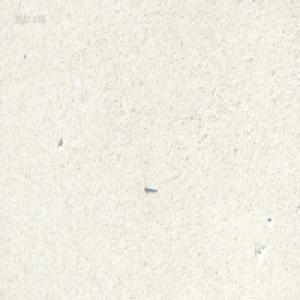Nail: (143, 183, 156, 192)
